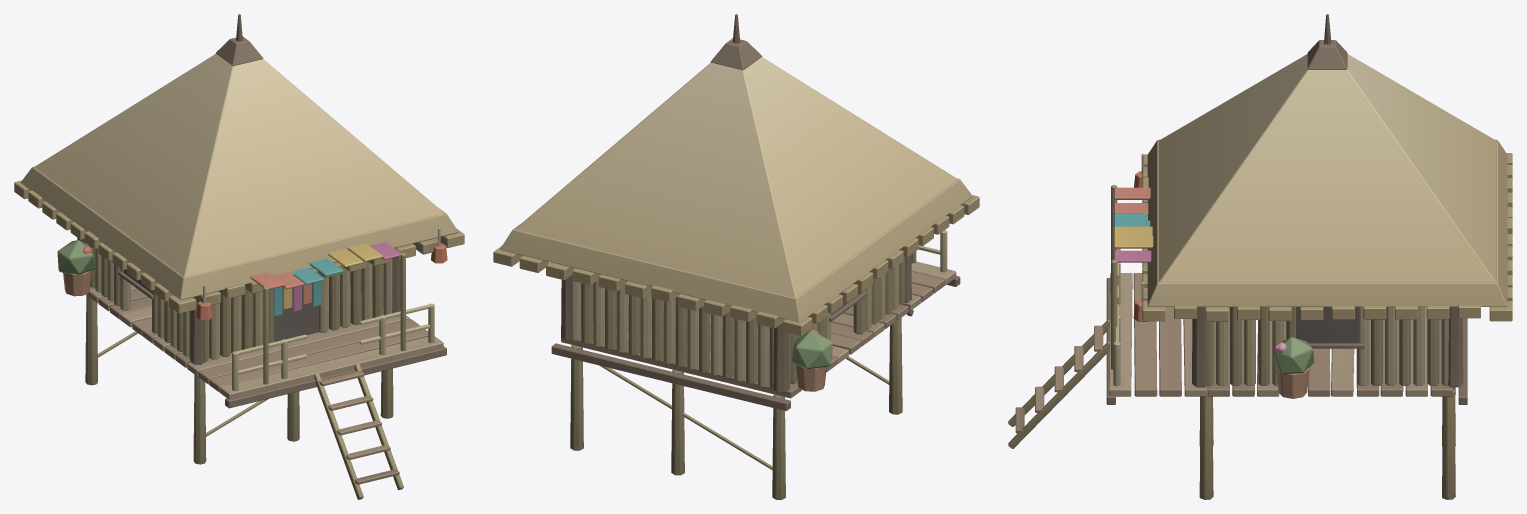
The model's file is iv_hut.glb.
3 renders of one model, left to right at view 1: azimuth 30°, elevation 25°; view 2: azimuth 150°, elevation 25°; view 3: azimuth 270°, elevation 25°, orthographic. The views are drawn at different scales.
Parts seen in each view (by area): view 1: iv_hut; view 2: iv_hut; view 3: iv_hut.
Boxes of the visible parts, x1=… form: iv_hut: x1=14, y1=14, x2=464, y2=499; iv_hut: x1=493, y1=14, x2=979, y2=499; iv_hut: x1=1008, y1=14, x2=1512, y2=499.
Bounding box in the file's own units: 6.42 × 8.26 × 8.74.
